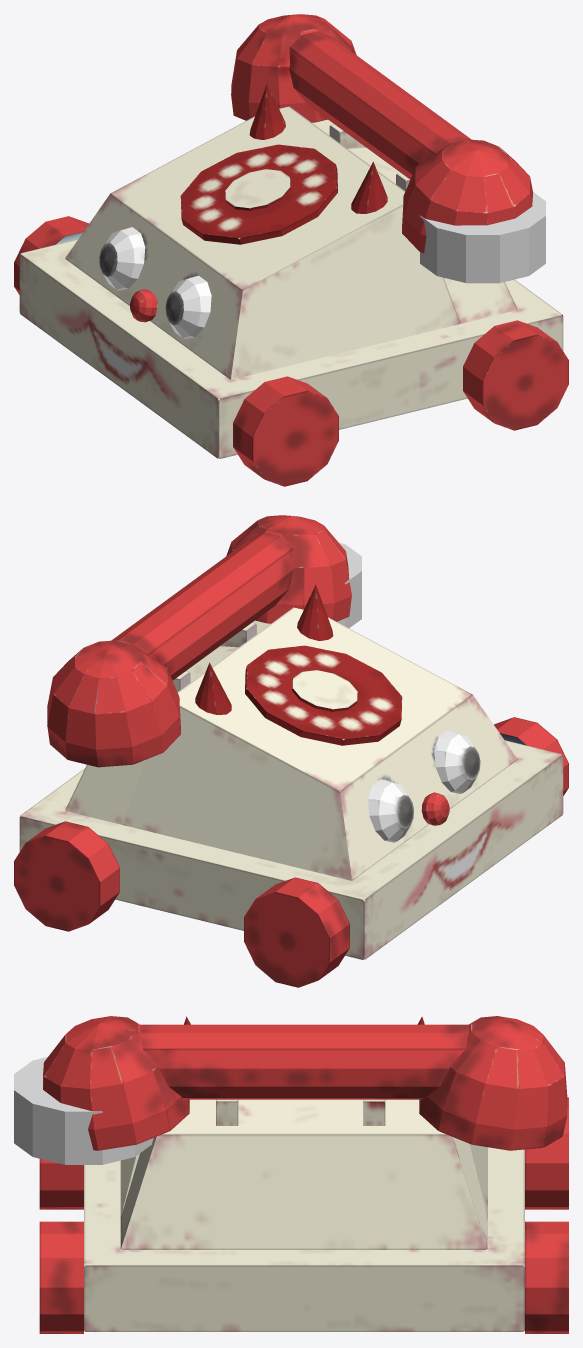
File: Phone.fbx
3 views of the same model, one above another, from view 1: azimuth 30°, elevation 25°; view 2: azimuth 150°, elevation 25°; view 3: azimuth 270°, elevation 25° (orthographic). The views are drawn at different scales.
Parts seen in each view (by area): view 1: cuboid_1, cuboid, cylinder_5, cylinder_6, sphere, cylinder_1, cylinder, cylinder_4, sphere_1, cuboid_2, sphere_2, sphere_3 (+5 smaller); view 2: cuboid_1, cuboid, sphere_1, cylinder_5, cylinder_6, cylinder_3, cylinder_2, sphere, cuboid_2, sphere_3, sphere_2, cylinder_7 (+5 smaller); view 3: cuboid_2, cuboid, cylinder_5, sphere_1, sphere, cylinder_4, cylinder_1, cylinder_3, cylinder_2, cylinder, cuboid_1, cuboid_3 (+1 smaller).
Boxes of the visible parts, left/top/right/bottom form: cuboid_1: left=65, top=106, right=459, bottom=379; cuboid: left=19, top=239, right=563, bottom=458; cylinder_5: left=289, top=31, right=471, bottom=179; cylinder_6: left=180, top=144, right=337, bottom=244; sphere: left=402, top=139, right=533, bottom=253; cylinder_1: left=463, top=320, right=568, bottom=430; cylinder: left=233, top=376, right=338, bottom=486; cylinder_4: left=420, top=192, right=545, bottom=283; sphere_1: left=231, top=14, right=356, bottom=122; cuboid_2: left=312, top=119, right=517, bottom=323; sphere_2: left=99, top=227, right=145, bottom=290; sphere_3: left=165, top=275, right=211, bottom=339; cuboid_1: left=122, top=607, right=517, bottom=880; cuboid: left=19, top=740, right=563, bottom=959; sphere_1: left=47, top=640, right=180, bottom=767; cylinder_5: left=111, top=532, right=293, bottom=680; cylinder_6: left=245, top=645, right=402, bottom=745; cylinder_3: left=14, top=821, right=119, bottom=931; cylinder_2: left=244, top=877, right=349, bottom=987; sphere: left=226, top=515, right=351, bottom=623; cuboid_2: left=65, top=620, right=270, bottom=824; sphere_3: left=434, top=730, right=480, bottom=793; sphere_2: left=368, top=779, right=413, bottom=842; cylinder_7: left=292, top=670, right=357, bottom=711; cuboid_2: left=120, top=1099, right=487, bottom=1249; cuboid: left=84, top=1147, right=524, bottom=1331; cylinder_5: left=140, top=1024, right=468, bottom=1099; sphere_1: left=419, top=1016, right=567, bottom=1150; sphere: left=43, top=1016, right=189, bottom=1150; cylinder_4: left=14, top=1057, right=153, bottom=1164; cylinder_1: left=39, top=1221, right=83, bottom=1333; cylinder_3: left=525, top=1221, right=568, bottom=1333; cylinder_2: left=525, top=1097, right=568, bottom=1209; cylinder: left=39, top=1159, right=83, bottom=1209; cuboid_1: left=120, top=1142, right=487, bottom=1217; cuboid_3: left=216, top=1099, right=238, bottom=1125.
Size of the model in its own units: 75 by 54.77 by 94.38.
1 material, 1 textured.
